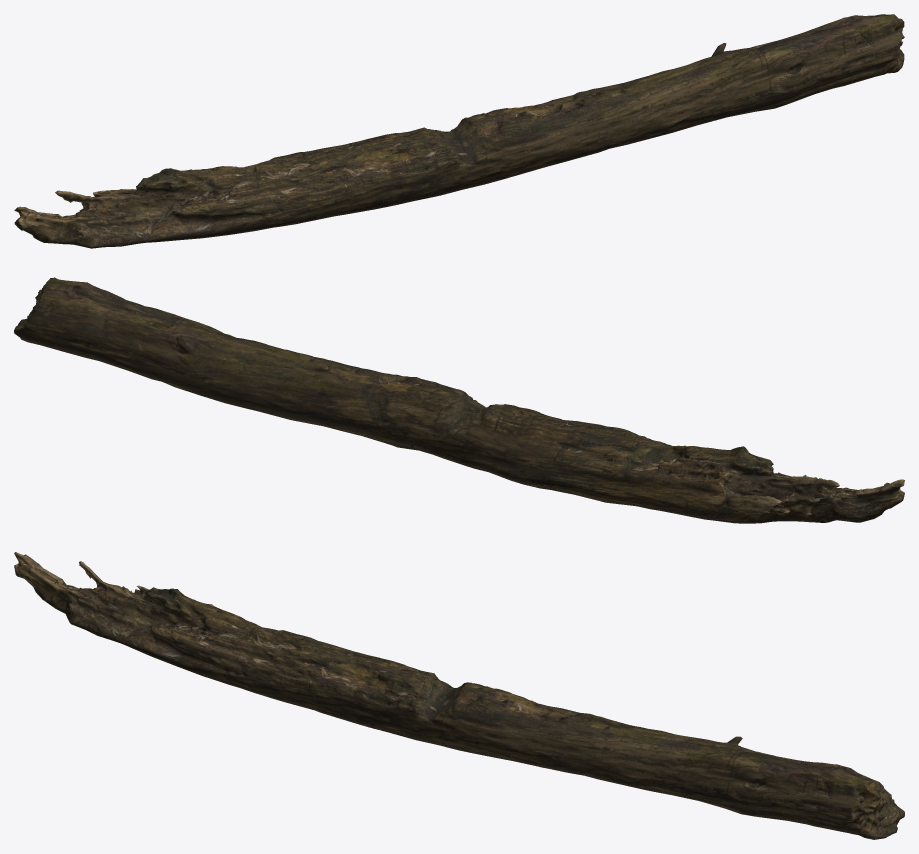
File: ph_dead_tree_trunk.glb
3 renders of one model, top to bottom at view 1: azimuth 30°, elevation 25°; view 2: azimuth 150°, elevation 25°; view 3: azimuth 330°, elevation 25°, orthographic.
Bounding box in the file's own units: 3.05 × 0.2873 × 0.2769.
1 material, 1 textured.
